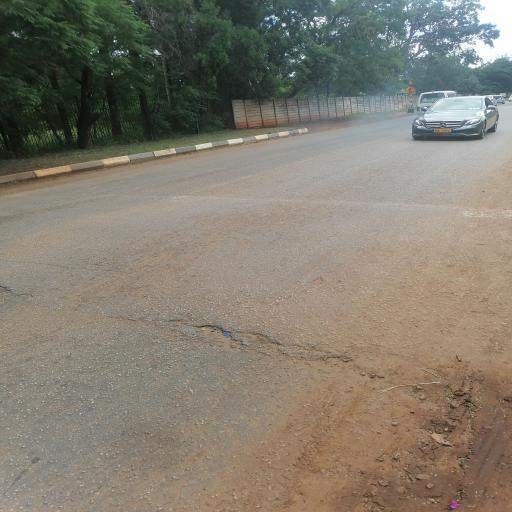number-plates: (435, 124, 458, 138)
